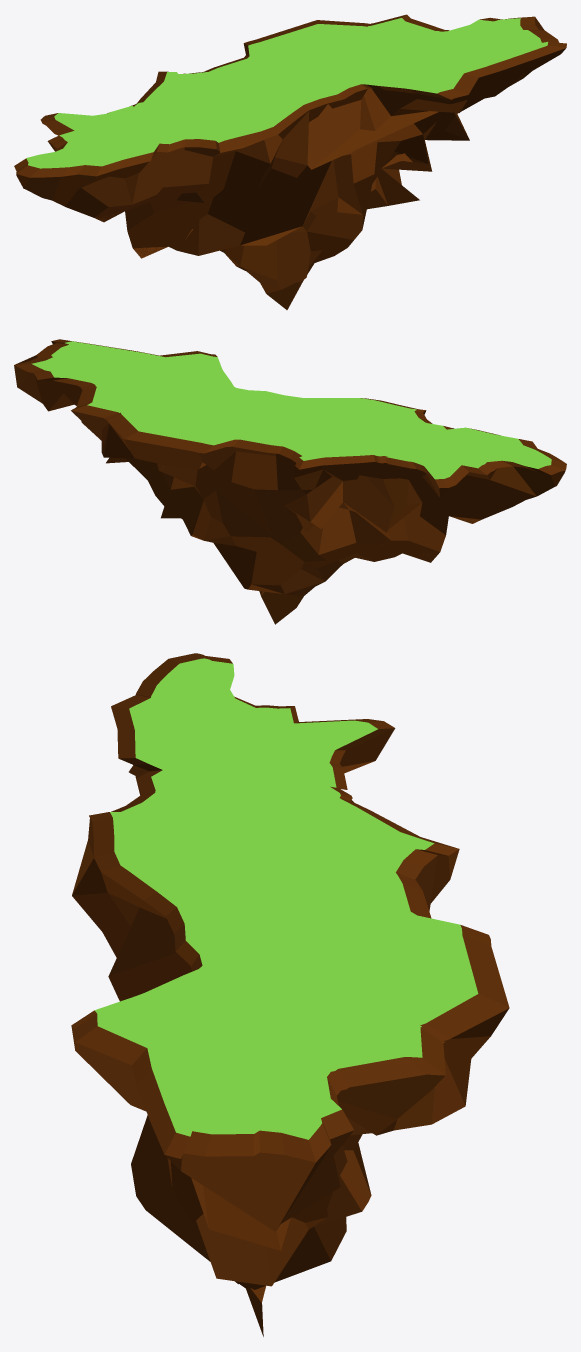
File: island 2 bald.glb
3 views of the same model, one above another, from view 1: azimuth 30°, elevation 25°; view 2: azimuth 150°, elevation 25°; view 3: azimuth 270°, elevation 25° (orthographic). The views are drawn at different scales.
Parts seen in each view (by area): view 1: Vert, Vert.001; view 2: Vert, Vert.001; view 3: Vert.001, Vert.
Boxes of the visible parts, box(x1,y1,x2,y2) form: Vert: box(14, 14, 566, 309); Vert.001: box(26, 18, 548, 168); Vert: box(14, 339, 566, 624); Vert.001: box(31, 341, 551, 479); Vert.001: box(95, 658, 478, 1139); Vert: box(71, 653, 509, 1336).
Bounding box in the file's own units: 9.46 × 3.63 × 3.4.
